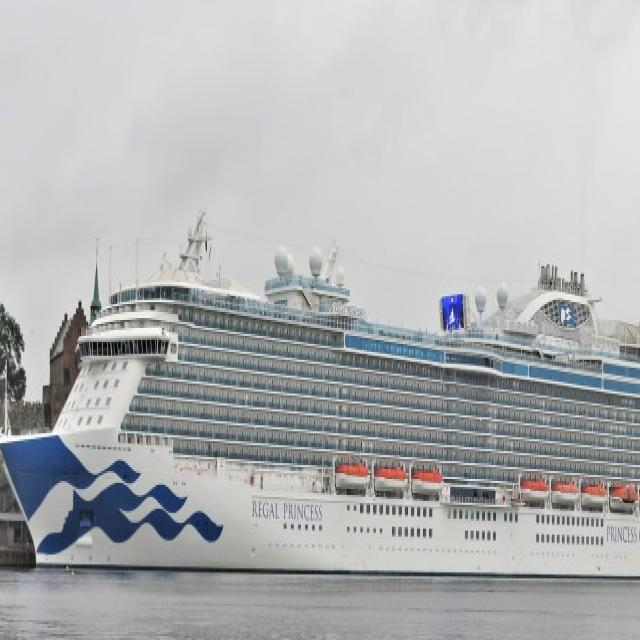cruises: (1, 204, 640, 597)
